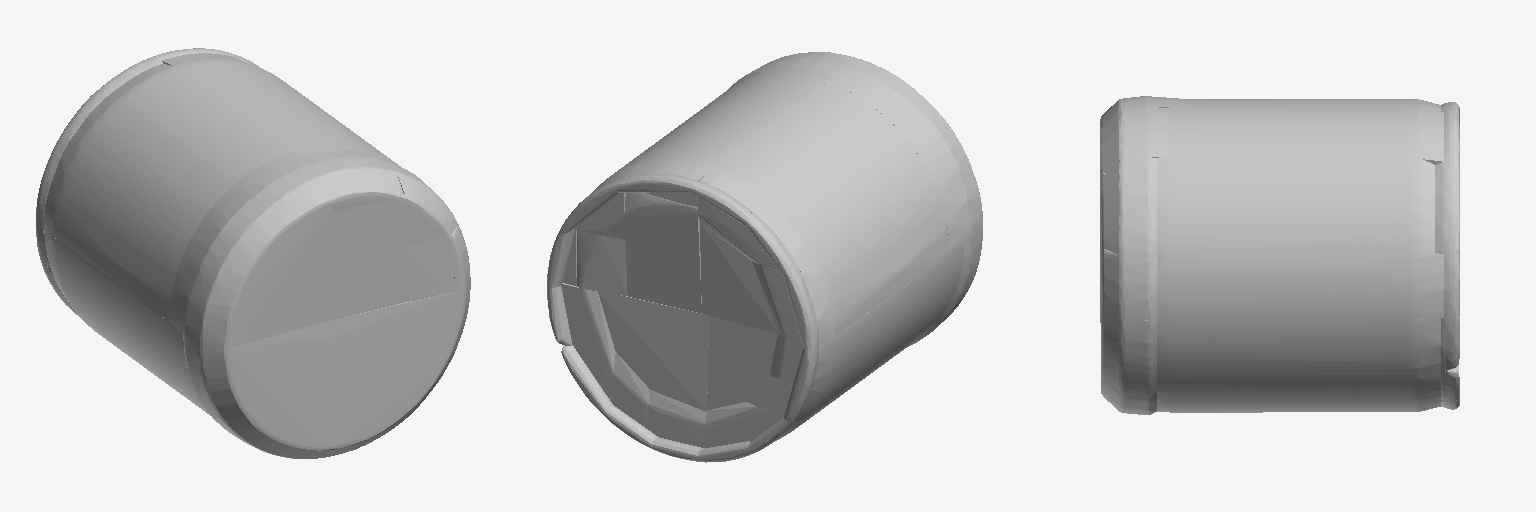
File: coacd_collision.obj
3 renders of one model, left to right at view 1: azimuth 30°, elevation 25°; view 2: azimuth 150°, elevation 25°; view 3: azimuth 270°, elevation 25°, orthographic.
Parts seen in each view (by area): view 1: geometry_4, geometry_0, geometry_1, geometry_3, geometry_5, geometry_2, geometry_28, geometry_11, geometry_12, geometry_10, geometry_27, geometry_18 (+2 smaller); view 2: geometry_4, geometry_5, geometry_0, geometry_28, geometry_6, geometry_2, geometry_8, geometry_12, geometry_7, geometry_20, geometry_24, geometry_16 (+20 smaller); view 3: geometry_27, geometry_6, geometry_30, geometry_28, geometry_10, geometry_1, geometry_18, geometry_11, geometry_4, geometry_35, geometry_31, geometry_32 (+3 smaller).
Boxes of the visible parts, x1,y1,x2,y2 form: geometry_4: [44, 63, 290, 319]; geometry_0: [168, 152, 333, 347]; geometry_1: [317, 279, 470, 458]; geometry_3: [183, 323, 325, 458]; geometry_5: [44, 227, 210, 415]; geometry_2: [332, 193, 405, 319]; geometry_28: [162, 53, 371, 156]; geometry_11: [300, 150, 402, 211]; geometry_12: [405, 234, 454, 301]; geometry_10: [383, 160, 457, 245]; geometry_27: [248, 63, 400, 166]; geometry_18: [452, 224, 470, 291]; geometry_4: [700, 82, 949, 343]; geometry_5: [707, 243, 963, 441]; geometry_0: [828, 59, 982, 251]; geometry_28: [626, 69, 834, 206]; geometry_6: [598, 292, 708, 411]; geometry_2: [624, 193, 701, 312]; geometry_8: [561, 283, 615, 403]; geometry_12: [577, 230, 627, 295]; geometry_7: [705, 402, 784, 447]; geometry_20: [648, 390, 706, 447]; geometry_24: [698, 181, 800, 273]; geometry_16: [752, 261, 818, 344]; geometry_27: [1157, 158, 1434, 255]; geometry_6: [1157, 318, 1440, 412]; geometry_30: [1157, 253, 1443, 319]; geometry_28: [1169, 108, 1443, 164]; geometry_10: [1101, 157, 1156, 256]; geometry_1: [1101, 312, 1156, 414]; geometry_18: [1102, 251, 1156, 320]; geometry_11: [1101, 107, 1168, 172]; geometry_4: [1186, 99, 1440, 110]; geometry_35: [1446, 161, 1459, 254]; geometry_31: [1444, 254, 1459, 318]; geometry_32: [1435, 162, 1445, 254].
Bounding box in the file's own units: 67.65 × 67.41 × 76.72.